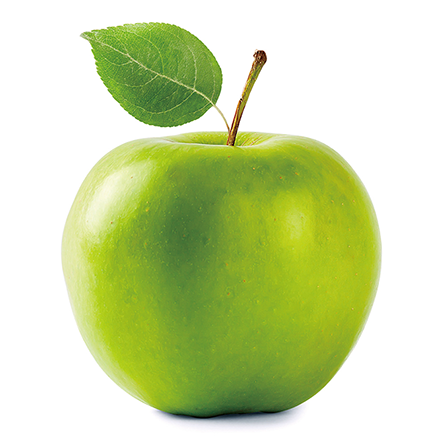apple: (58, 130, 385, 413)
